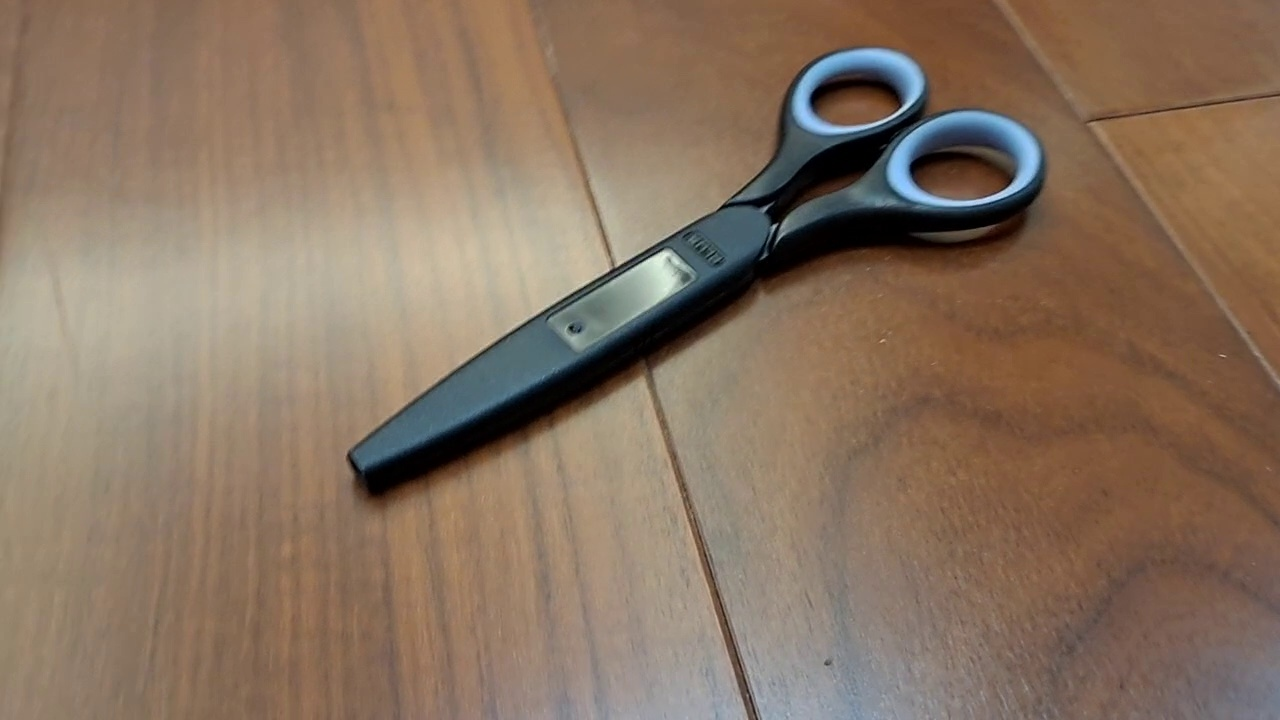scissors: (345, 43, 1049, 500)
